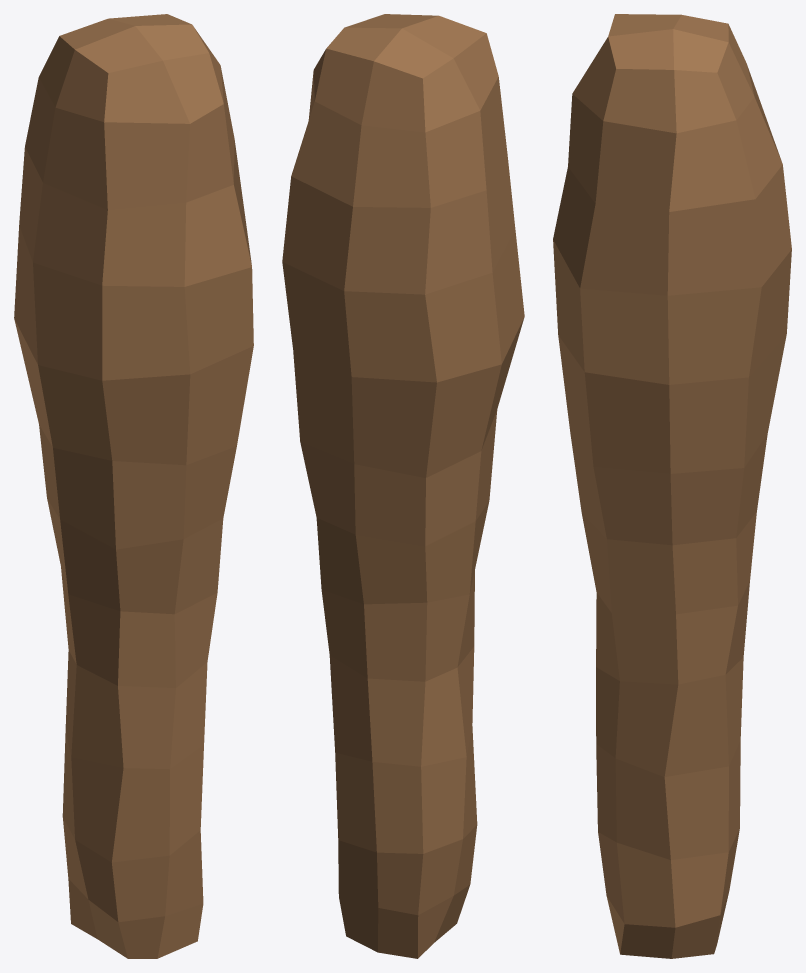
The model's file is tora.fbx.
3 renders of one model, left to right at view 1: azimuth 30°, elevation 25°; view 2: azimuth 150°, elevation 25°; view 3: azimuth 270°, elevation 25°, orthographic.
Parts seen in each view (by area): view 1: Cube; view 2: Cube; view 3: Cube.
Part boxes in pixels (x1,y1,x2,y2): Cube: [14, 14, 253, 958]; Cube: [282, 14, 524, 958]; Cube: [553, 14, 791, 958].
Size of the model in its own units: 298 by 1342 by 313.
